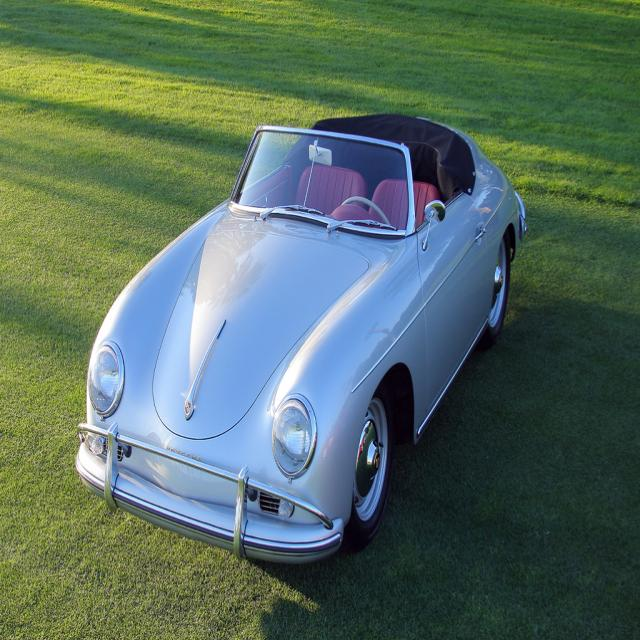other: (70, 106, 528, 563)
